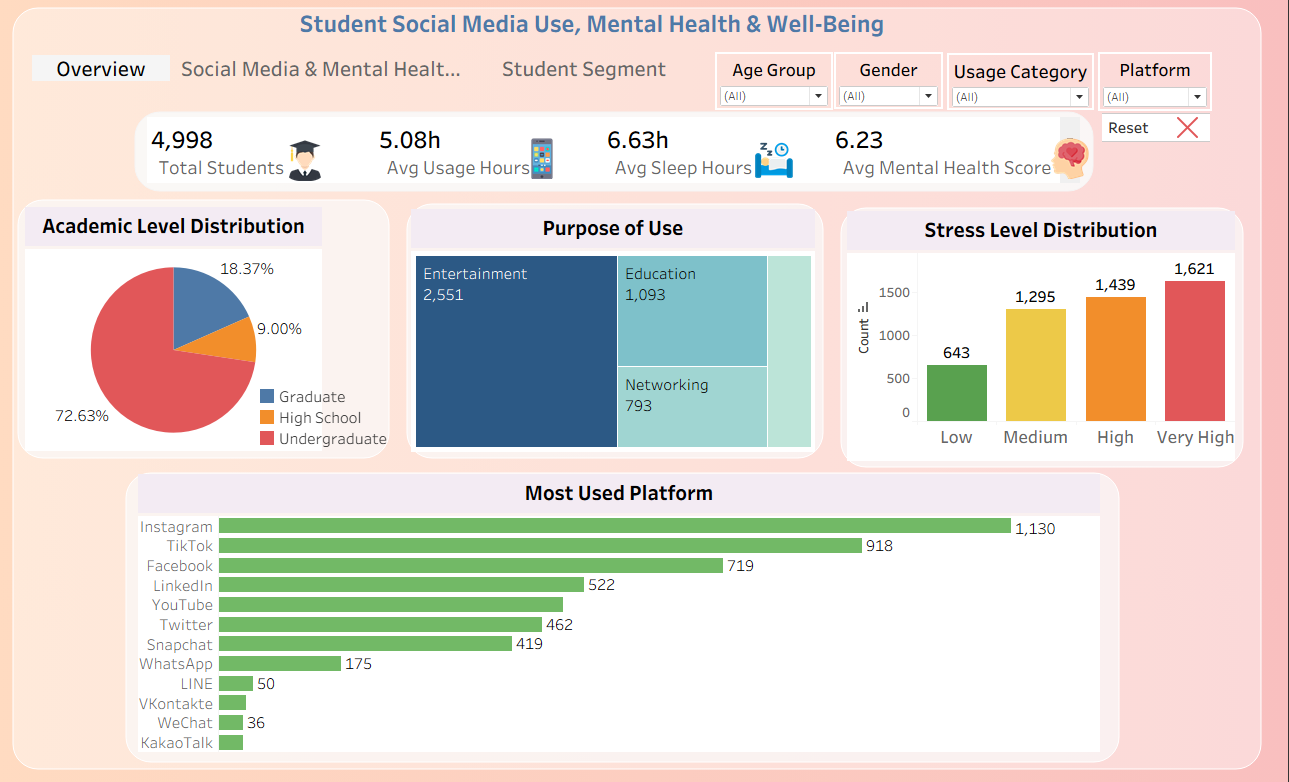

The page's visual inventory and layout, read from the dashboard file:
{"tool":"tableau","page":{"name":"Overview","canvas":[1300,800],"ordinal":0},"visuals":[{"type":"image","param":"C:/Users/user/Videos/Project/Student Social Media & Mental Health/Orange - Red B","box":[0,0,1300,798]},{"type":"text","box":[290,8,614,36]},{"type":"text","box":[33,54,146,34]},{"type":"dashboard-object","box":[179,54,302,34]},{"type":"dashboard-object","box":[481,54,217,34]},{"type":"filter","title":"Academic","param":"[federated.1290blm1tqtw5o11xgozc0wntkdx].[none:Calculation_3693028464959494:nk]","box":[720,55,118,58]},{"type":"filter","title":"Academic","param":"[federated.1290blm1tqtw5o11xgozc0wntkdx].[none:Gender:nk]","box":[839,55,109,57]},{"type":"filter","title":"Academic","param":"[federated.1290blm1tqtw5o11xgozc0wntkdx].[none:Most_Used_Platform:nk]","box":[1103,55,114,59]},{"type":"filter","title":"Academic","param":"[federated.1290blm1tqtw5o11xgozc0wntkdx].[none:Calculation_3693028466761735:nk]","box":[952,56,147,57]},{"type":"worksheet","title":"Reset","mark":"Shape","rows":["Calculation_1901102881722391"],"box":[1107,116,112,31]},{"type":"worksheet","title":"KPI Metrics 1","mark":"Automatic","box":[152,120,939,66]},{"type":"text","box":[429,128,21,27]},{"type":"text","box":[657,129,21,26]},{"type":"image","param":"C:/Users/user/Downloads/smartphone_186239.png","box":[526,141,45,41]},{"type":"image","param":"C:/Users/user/Downloads/mental-health.png","box":[1054,141,50,41]},{"type":"image","param":"C:/Users/user/Downloads/enough-sleep.png","box":[758,142,57,41]},{"type":"image","param":"C:/Users/user/Downloads/graduated.png","box":[289,143,57,41]},{"type":"worksheet","title":"Academic","mark":"Pie","box":[30,210,297,244]},{"type":"worksheet","title":"Purpose of Use","mark":"Automatic","box":[416,212,404,243]},{"type":"worksheet","title":"Stress Level","mark":"Automatic","rows":["Calculation_3693028491952136"],"cols":["Stress_Level"],"box":[852,214,388,250]},{"type":"legend","title":"Academic","param":"[federated.1290blm1tqtw5o11xgozc0wntkdx].[none:Academic_Level:nk]","box":[262,367,139,85]},{"type":"worksheet","title":"Platform","mark":"Automatic","rows":["Most_Used_Platform"],"cols":["Calculation_3693028491952136"],"box":[143,477,962,278]}]}

Visuals, with their boxes in screenshot pixels (x1, y1, x2, y2), scaled from the page's 1300x800 canvas onto the 1290x782 screenshot:
image: x1=0, y1=0, x2=1289, y2=780
text: x1=288, y1=8, x2=897, y2=43
text: x1=33, y1=53, x2=178, y2=86
dashboard-object: x1=178, y1=53, x2=477, y2=86
dashboard-object: x1=477, y1=53, x2=693, y2=86
"Academic" filter: x1=714, y1=54, x2=832, y2=110
"Academic" filter: x1=833, y1=54, x2=941, y2=109
"Academic" filter: x1=1095, y1=54, x2=1208, y2=111
"Academic" filter: x1=945, y1=55, x2=1091, y2=110
"Reset" worksheet (Shape marks): x1=1098, y1=113, x2=1210, y2=144
"KPI Metrics 1" worksheet: x1=151, y1=117, x2=1083, y2=182
text: x1=426, y1=125, x2=447, y2=152
text: x1=652, y1=126, x2=673, y2=152
image: x1=522, y1=138, x2=567, y2=178
image: x1=1046, y1=138, x2=1096, y2=178
image: x1=752, y1=139, x2=809, y2=179
image: x1=287, y1=140, x2=343, y2=180
"Academic" worksheet (Pie marks): x1=30, y1=205, x2=324, y2=444
"Purpose of Use" worksheet: x1=413, y1=207, x2=814, y2=445
"Stress Level" worksheet: x1=845, y1=209, x2=1230, y2=454
"Academic" legend: x1=260, y1=359, x2=398, y2=442
"Platform" worksheet: x1=142, y1=466, x2=1096, y2=738
